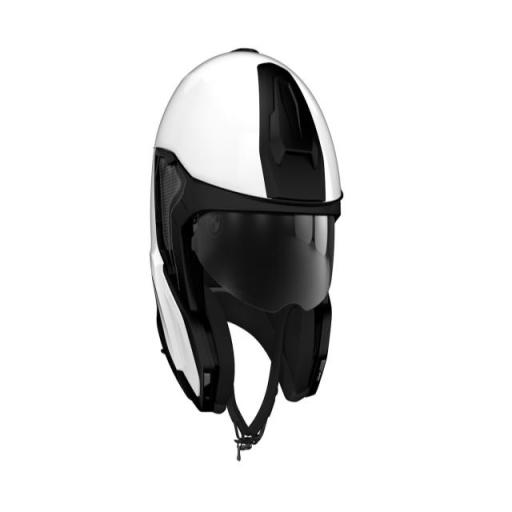Helmet: (151, 49, 342, 457)
